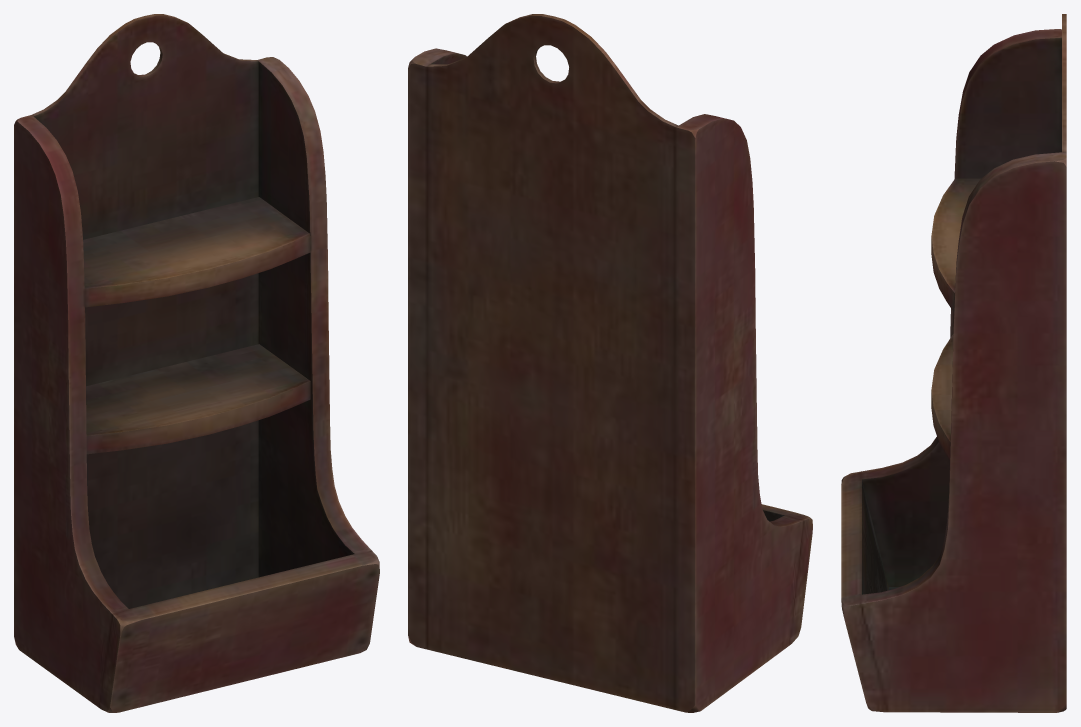
File: shelf_small.glb
3 renders of one model, left to right at view 1: azimuth 30°, elevation 25°; view 2: azimuth 150°, elevation 25°; view 3: azimuth 270°, elevation 25°, orthographic. The views are drawn at different scales.
Visible parts, largest first — view 1: painted_wooden_shelves; view 2: painted_wooden_shelves; view 3: painted_wooden_shelves.
Boxes of the visible parts, x1=… form: painted_wooden_shelves: x1=14, y1=14, x2=379, y2=712; painted_wooden_shelves: x1=408, y1=14, x2=812, y2=712; painted_wooden_shelves: x1=841, y1=14, x2=1066, y2=712.
Size of the model in its own units: 0.5111 by 1.13 by 0.3671.
Materials: 1 (1 with a texture image).
